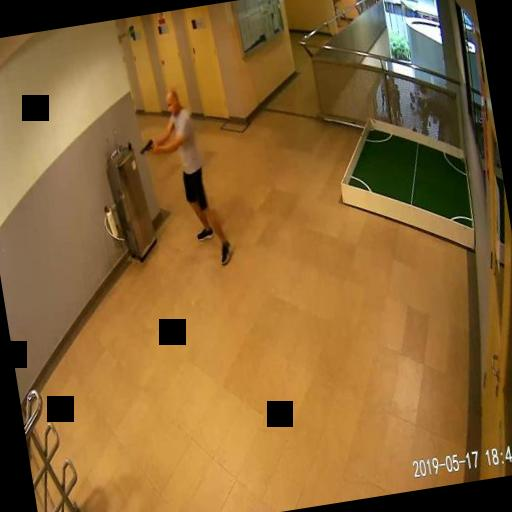Handgun: (136, 136, 156, 154)
